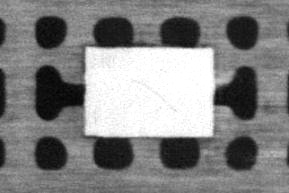DIE_CRACK: (128, 78, 180, 114)
